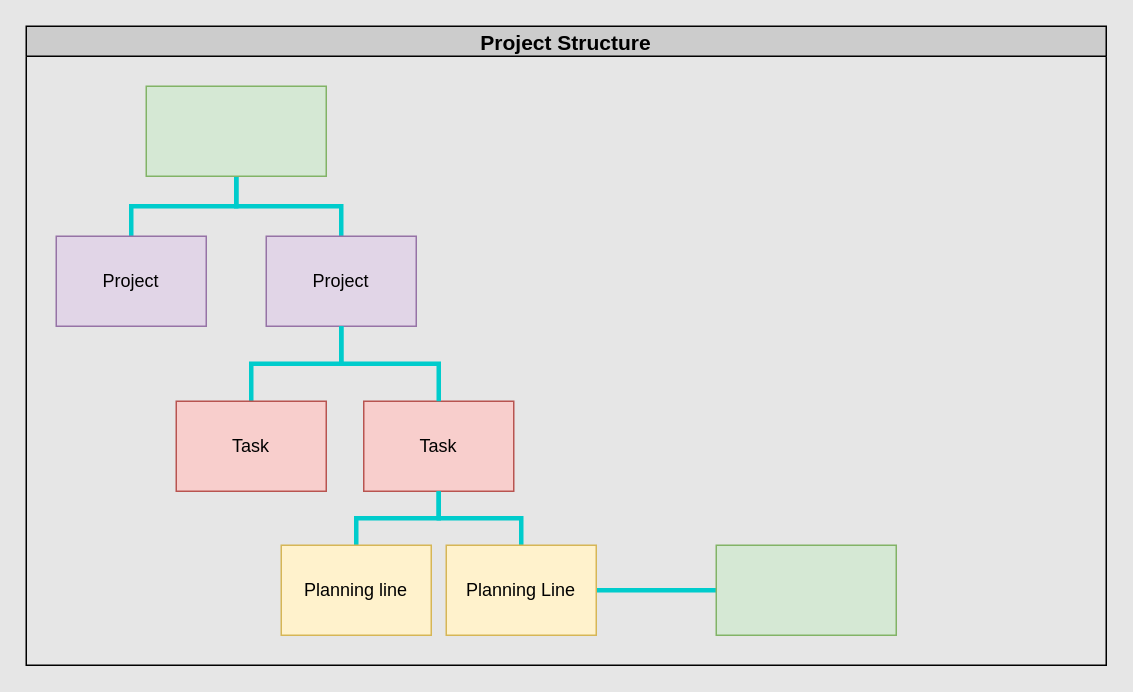
This 1133x692 diagram has some shape labels left out. Each missing label, with the centre of its shape:
"Customer" belongs at (x=235, y=130).
"Resource" belongs at (x=805, y=589).
